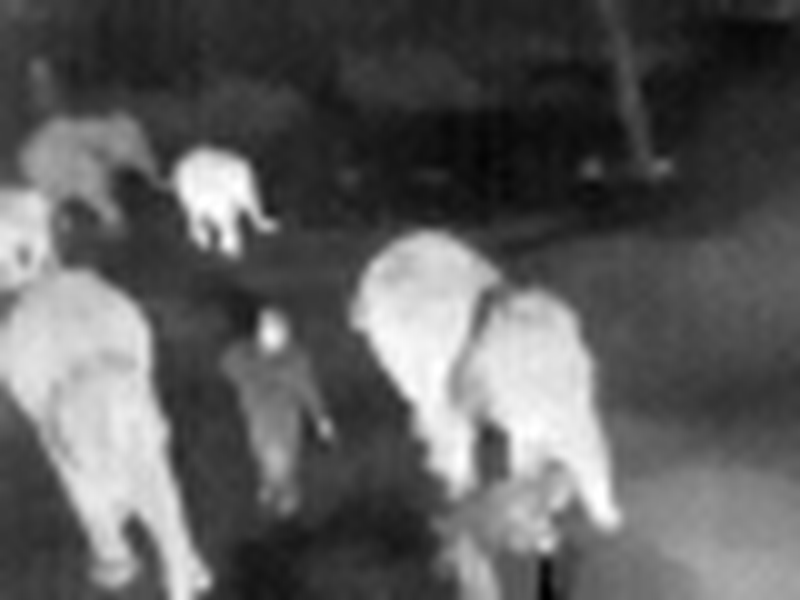elephant: (340, 214, 636, 528), (4, 276, 201, 580), (24, 101, 293, 268)
